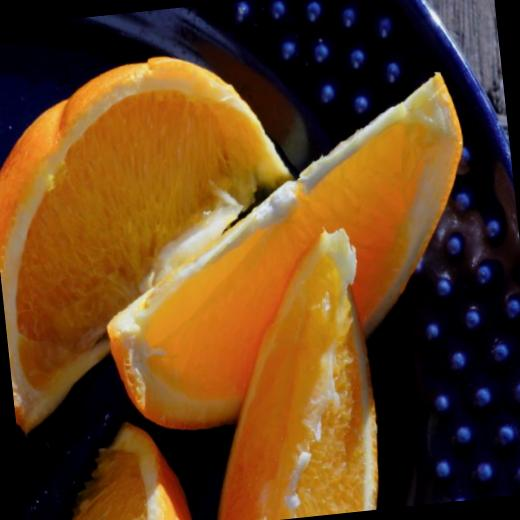Grape: (83, 68, 490, 435), (0, 42, 318, 438), (187, 226, 386, 520), (52, 413, 194, 520)
